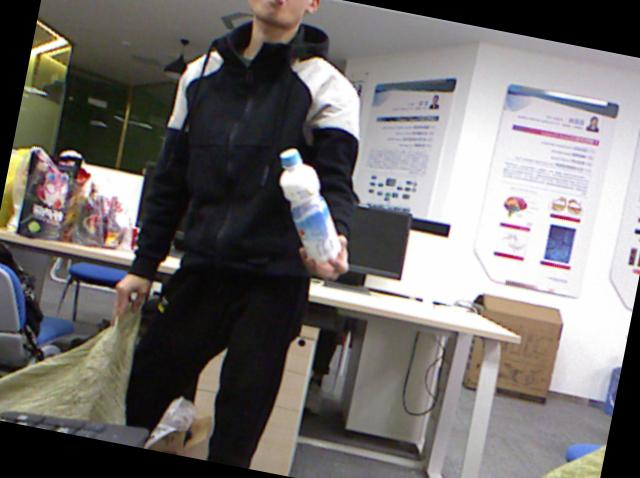plastic: (280, 150, 340, 262)
